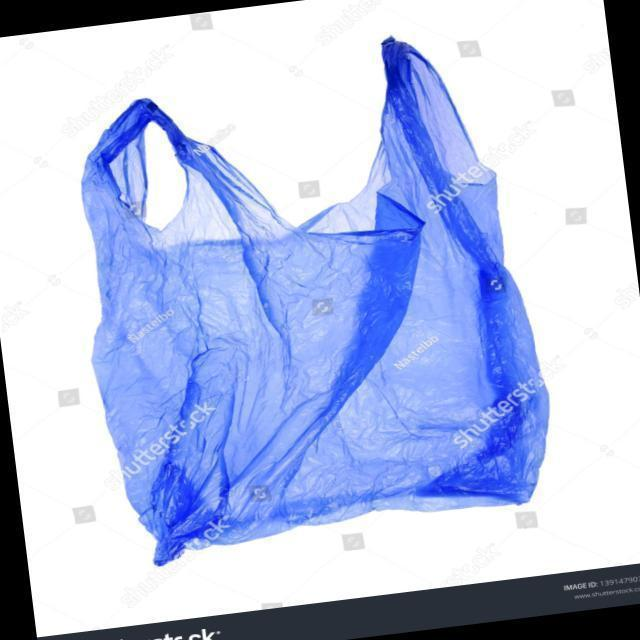KantongPlastik: (79, 34, 551, 565)
